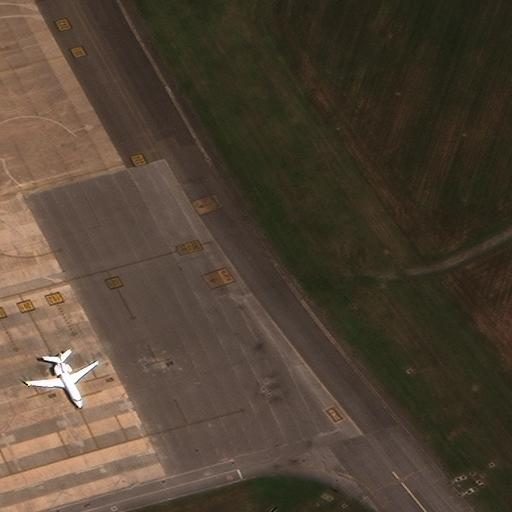Medium Civil Transport: (27, 354, 98, 408)
